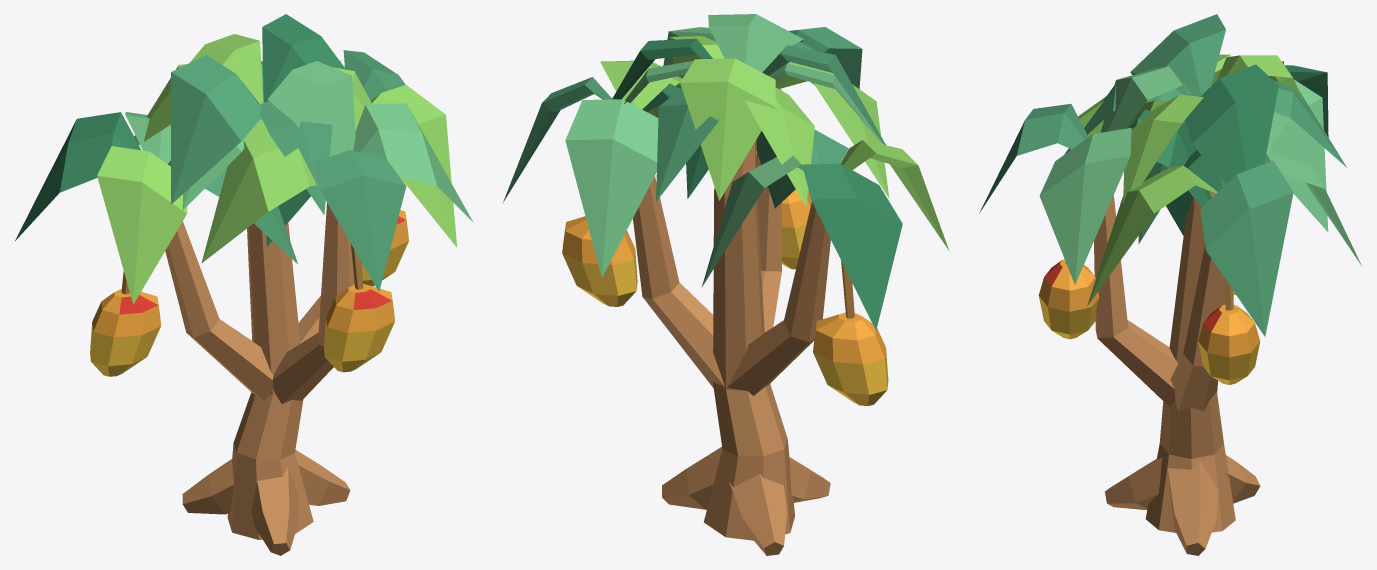
The model's file is 19-mango.glb.
3 views of the same model, side by side, from view 1: azimuth 30°, elevation 25°; view 2: azimuth 150°, elevation 25°; view 3: azimuth 270°, elevation 25° (orthographic). The views are drawn at different scales.
Visible parts, largest first — view 1: 19-mango_Body; view 2: 19-mango_Body; view 3: 19-mango_Body.
Part boxes in pixels (x1,y1,x2,y2): 19-mango_Body: (15, 14, 473, 555); 19-mango_Body: (502, 14, 949, 555); 19-mango_Body: (979, 14, 1361, 555).
Size of the model in its own units: 0.7476 by 0.8688 by 0.6427.
Materials: 1 (1 with a texture image).
